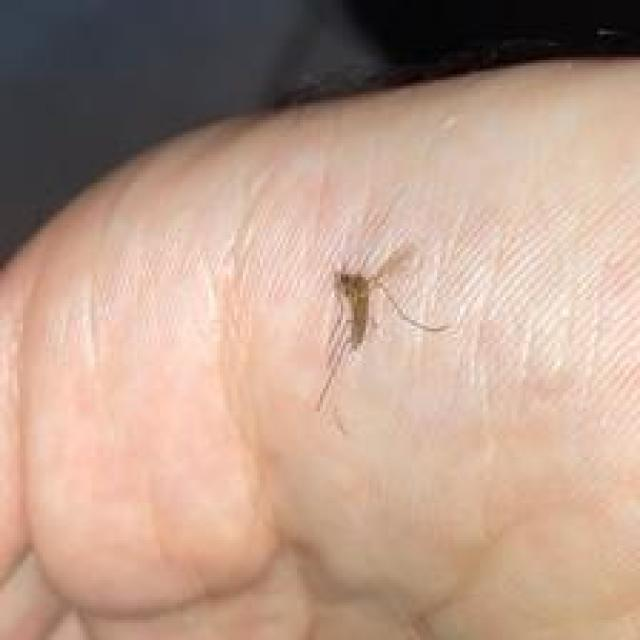Culex: (312, 240, 448, 417)
